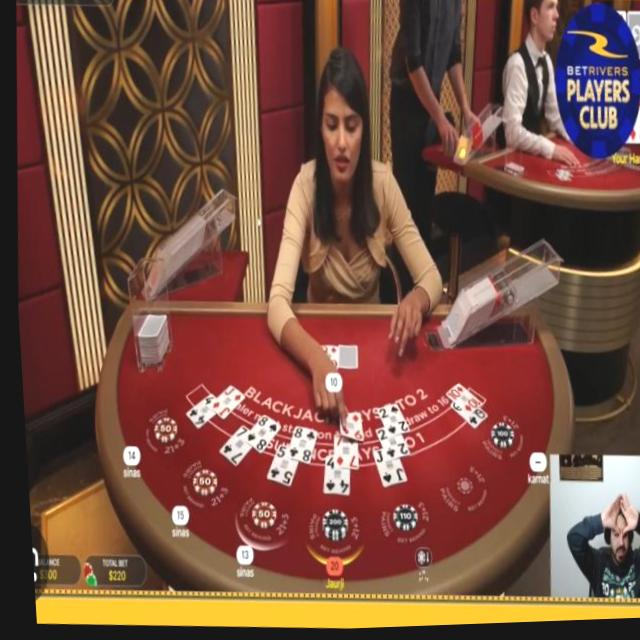Card-10: (440, 386, 478, 418)
Card-2: (370, 430, 404, 464), (373, 407, 404, 441)
Card-4: (317, 457, 344, 498), (181, 394, 211, 430)
Card-5: (261, 447, 293, 488)
Card-7: (213, 425, 246, 468), (328, 436, 352, 471)
Card-8: (238, 417, 276, 456), (280, 427, 312, 466)
Card-9: (334, 417, 358, 443)
Card-J: (367, 452, 401, 491), (205, 386, 240, 420)
Card-Q: (445, 405, 482, 434), (316, 347, 333, 371)
